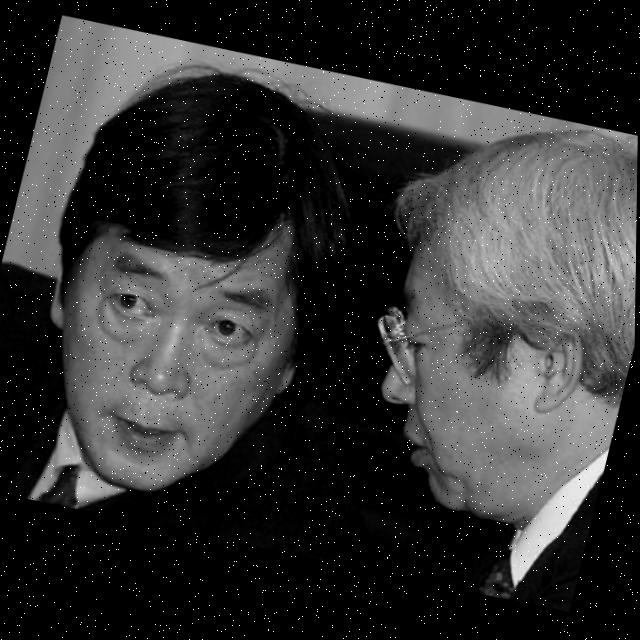face: (0, 118, 357, 523), (332, 193, 636, 545)
